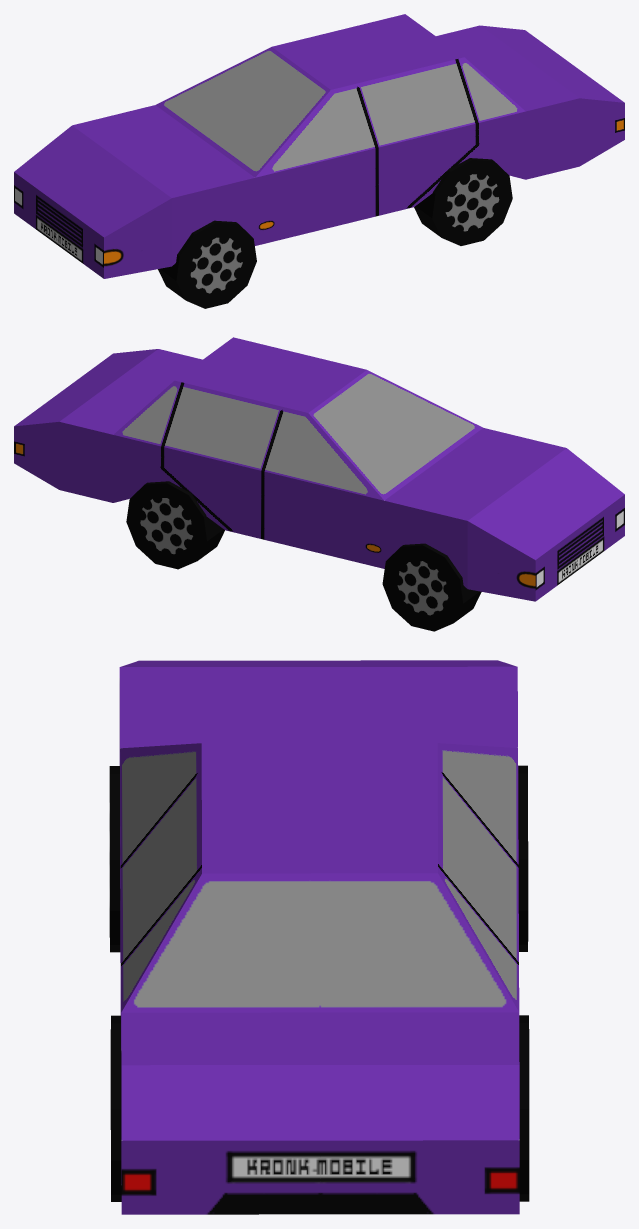
File: Car01.fbx
3 renders of one model, top to bottom at view 1: azimuth 30°, elevation 25°; view 2: azimuth 150°, elevation 25°; view 3: azimuth 270°, elevation 25°, orthographic. The views are drawn at different scales.
Parts seen in each view (by area): view 1: Car01; view 2: Car01; view 3: Car01.
Boxes of the visible parts, box(x1,y1,x2,y2) form: Car01: box(14, 14, 624, 308); Car01: box(14, 337, 624, 631); Car01: box(109, 660, 529, 1214).
Size of the model in its own units: 5.12 by 1.57 by 1.8.
Materials: 3 (2 with a texture image).
